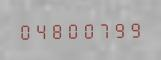eight: (49, 20, 64, 40)
four: (33, 20, 48, 40)
nine: (113, 19, 128, 39), (129, 19, 144, 38)
seven: (97, 19, 112, 39)
zero: (65, 20, 80, 40), (81, 19, 96, 39), (17, 21, 32, 40)
